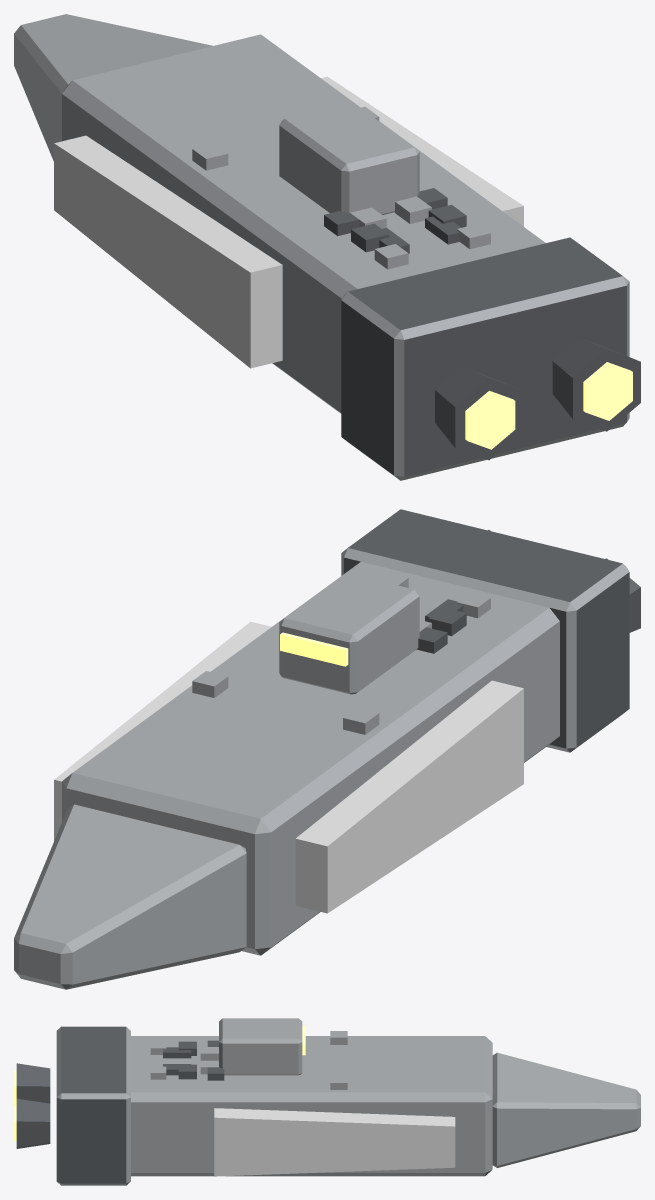
Rendered from human_corvette_mk1.glb.
The picture shows the model from 3 angles, top to bottom: view 1: azimuth 30°, elevation 25°; view 2: azimuth 150°, elevation 25°; view 3: azimuth 270°, elevation 25°; orthographic projection. The views are drawn at different scales.
Parts seen in each view (by area): view 1: human_corvette_mk1_LOD0; view 2: human_corvette_mk1_LOD0; view 3: human_corvette_mk1_LOD0.
Boxes of the visible parts, x1,y1,x2,y2 form: human_corvette_mk1_LOD0: (14, 14, 640, 480); human_corvette_mk1_LOD0: (14, 509, 640, 989); human_corvette_mk1_LOD0: (14, 1018, 640, 1185).
Size of what is drawn, in the model's own units: 2.09 by 1.47 by 6.76.
